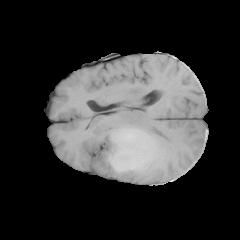glioma: (85, 125, 165, 182)
